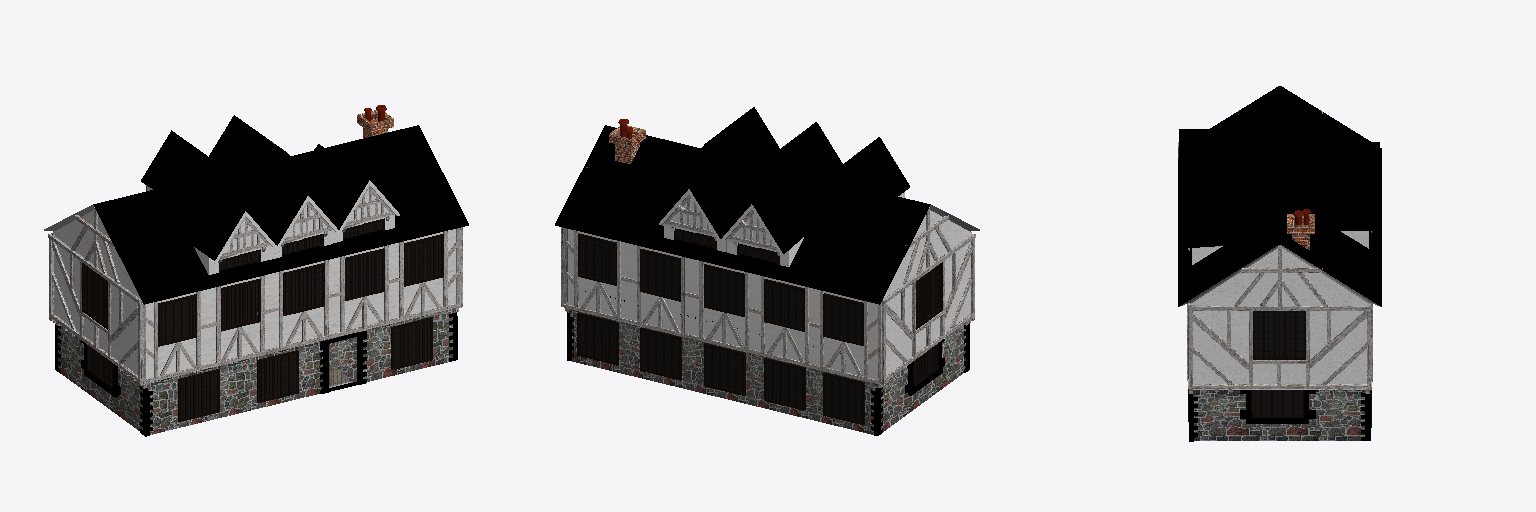
3 views of the same model, side by side, from view 1: azimuth 30°, elevation 25°; view 2: azimuth 150°, elevation 25°; view 3: azimuth 270°, elevation 25° (orthographic).
Visible parts, largest first — view 1: pCube184; view 2: pCube184; view 3: pCube184.
Boxes of the visible parts, <box> form: pCube184: <box>44,105,468,436</box>; pCube184: <box>555,107,979,435</box>; pCube184: <box>1178,86,1381,441</box>.
Size of the model in its own units: 20.48 by 13.15 by 11.08.
18 materials, 5 textured.